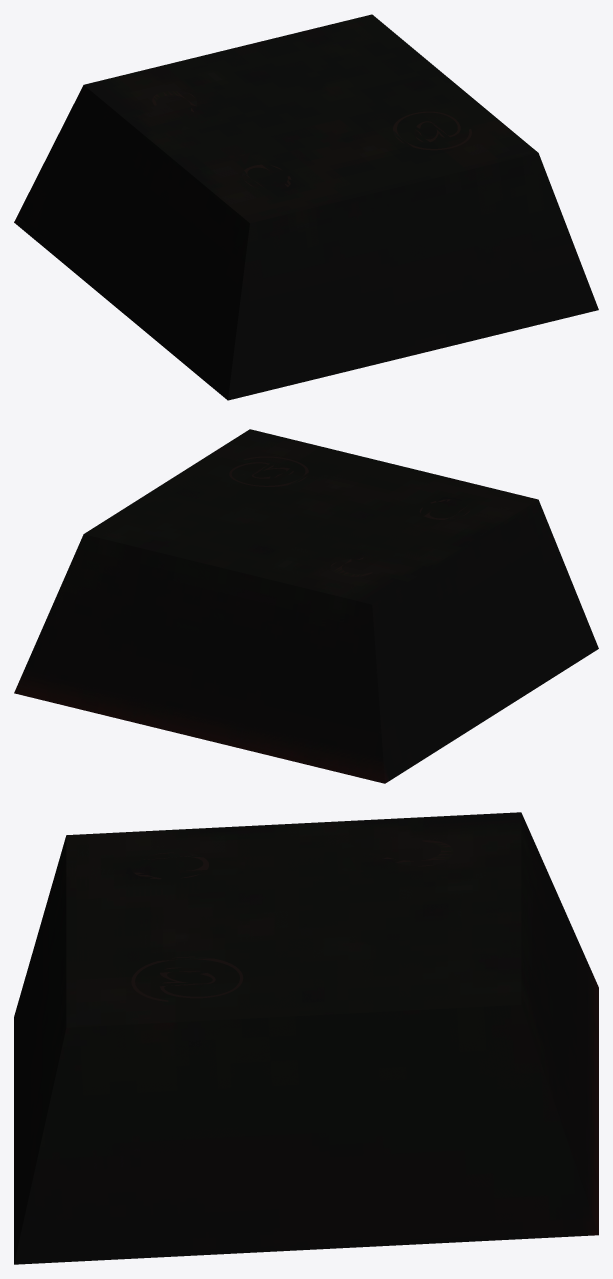
Rendered from link_31__key-37.glb.
3 views of the same model, one above another, from view 1: azimuth 30°, elevation 25°; view 2: azimuth 150°, elevation 25°; view 3: azimuth 270°, elevation 25° (orthographic). The views are drawn at different scales.
Visible parts, largest first — view 1: world; view 2: world; view 3: world.
Boxes of the visible parts, x1,y1,x2,y2 form: world: [14, 14, 598, 400]; world: [14, 429, 598, 783]; world: [14, 812, 598, 1264].
Bounding box in the file's own units: 0.0719 × 0.0315 × 0.0718.
1 material, 1 textured.
